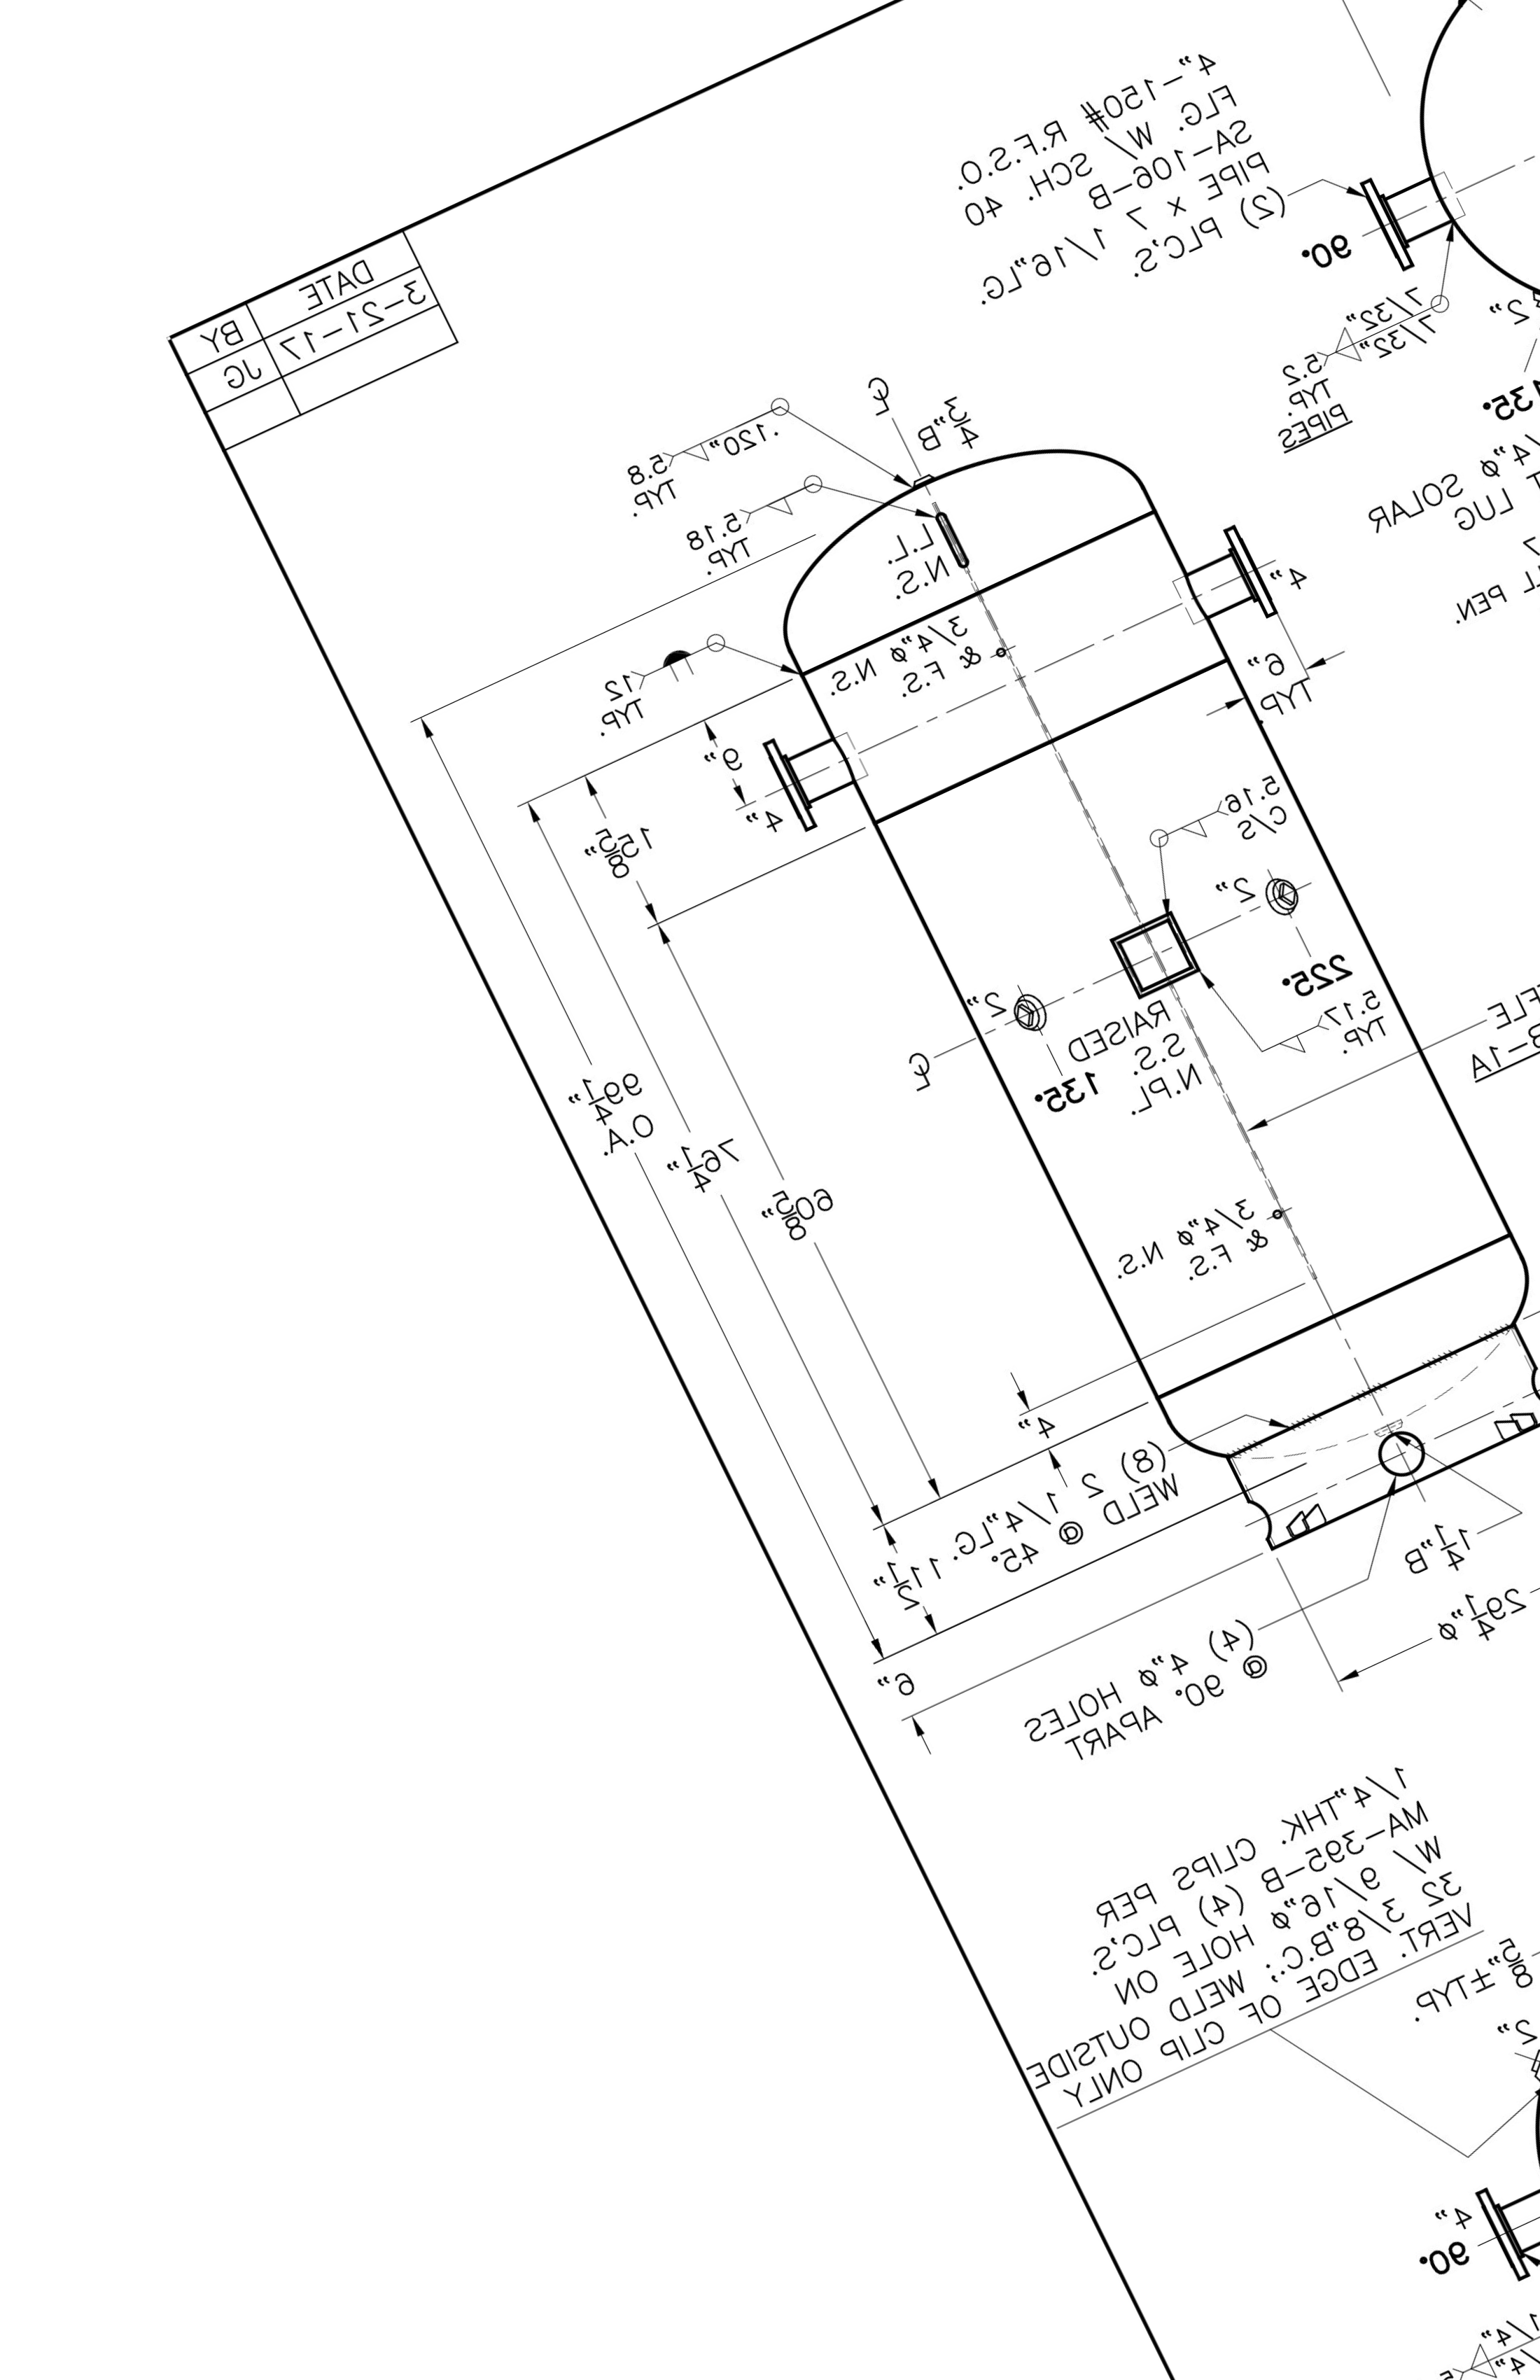Nozzle: (730, 709, 893, 857), (1339, 141, 1488, 297), (1119, 538, 1311, 637), (1431, 2148, 1540, 2312)
